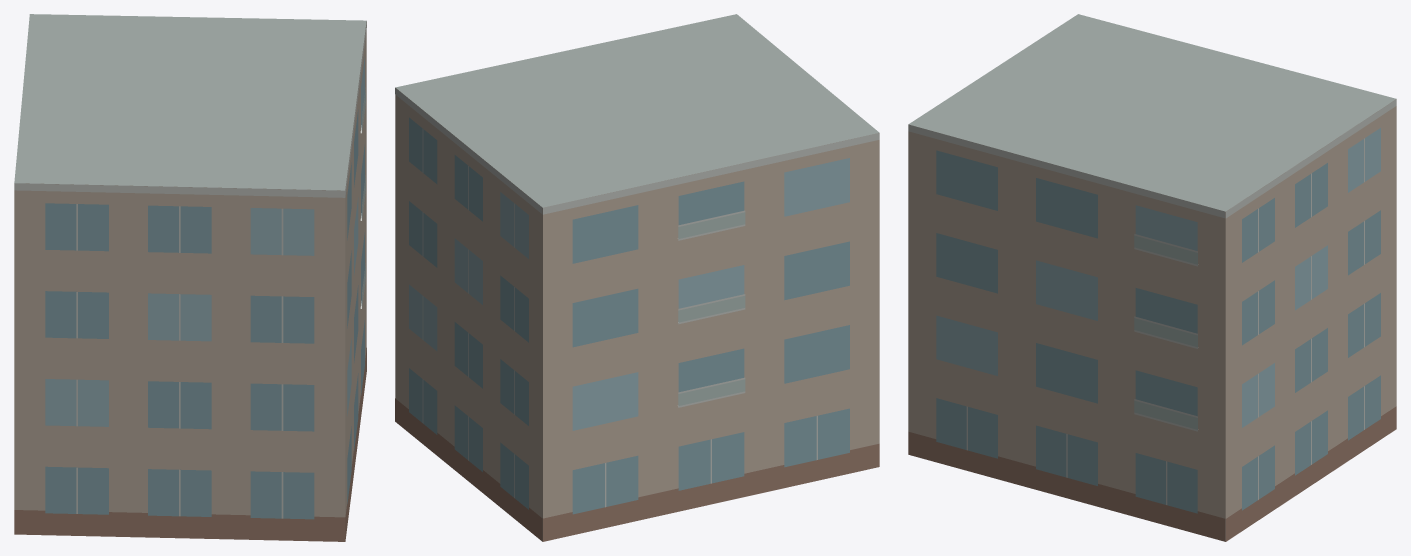
Rendered from survey-upis-32524470.glb.
3 views of the same model, side by side, from view 1: azimuth 30°, elevation 25°; view 2: azimuth 150°, elevation 25°; view 3: azimuth 270°, elevation 25° (orthographic). The views are drawn at different scales.
Parts seen in each view (by area): view 1: survey-upis-32524470.tmp; view 2: survey-upis-32524470.tmp; view 3: survey-upis-32524470.tmp.
Boxes of the visible parts, x1=… form: survey-upis-32524470.tmp: x1=14, y1=14, x2=366, y2=541; survey-upis-32524470.tmp: x1=395, y1=14, x2=879, y2=541; survey-upis-32524470.tmp: x1=908, y1=14, x2=1396, y2=541.
Bounding box in the file's own units: 15.03 × 11.7 × 15.69.
